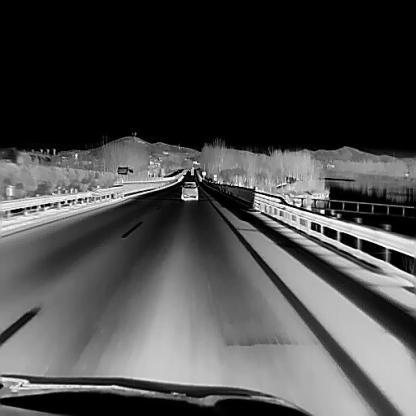car: (180, 180, 199, 200)
